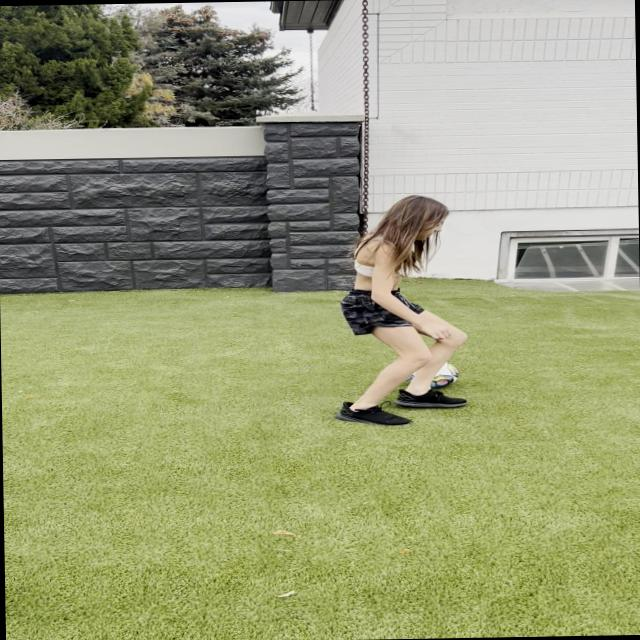Soccer Ball: (406, 356, 461, 389)
